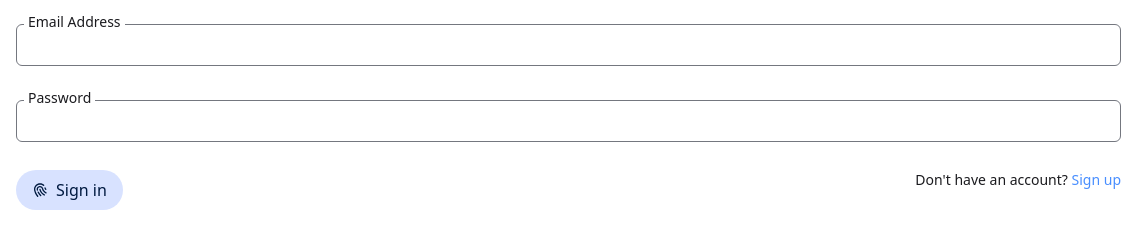
Test: SignInForm › shows an error message when an invalid email is entered
This screenshot has width=1138, height=227.
Note: Enter an invalid email and submit the form
In the field labelled "Email Address": point(568, 45) top-left (16, 24), bottom-right (1121, 66), type "test"
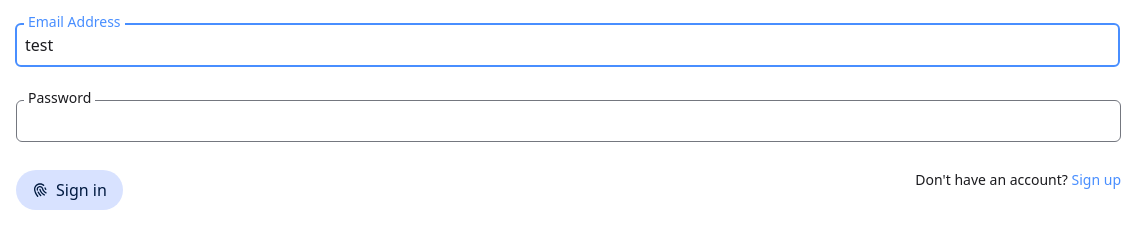
Click the button "Sign in": point(69, 190) top-left (16, 170), bottom-right (123, 210)
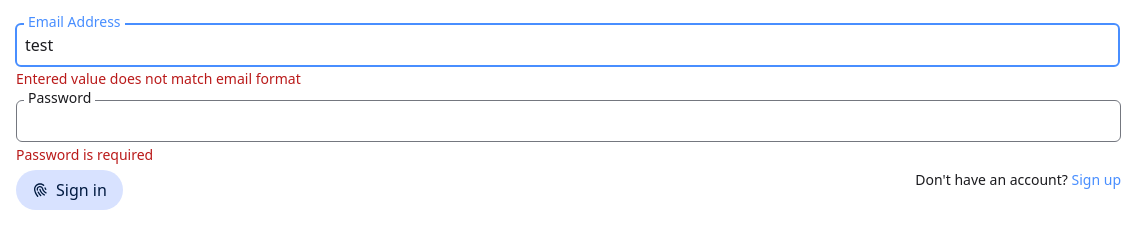
Now the text "Entered value does not match email format" is shown, box top-left (16, 69), bottom-right (301, 88)
